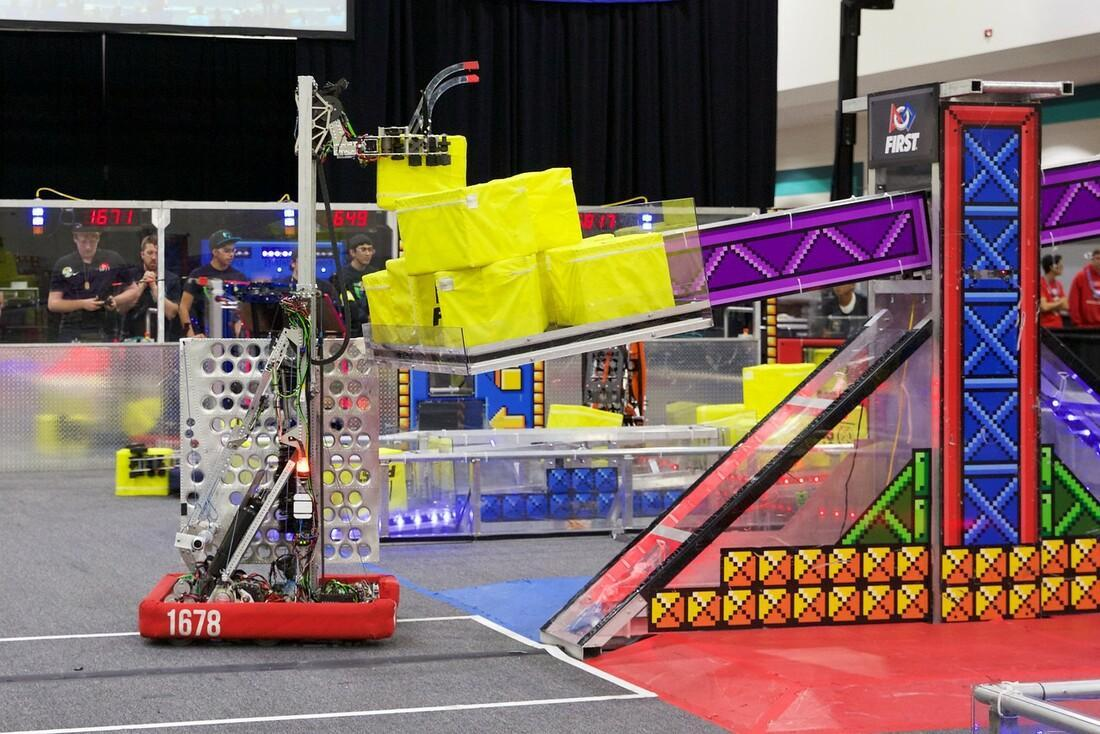robot: (130, 51, 481, 653)
